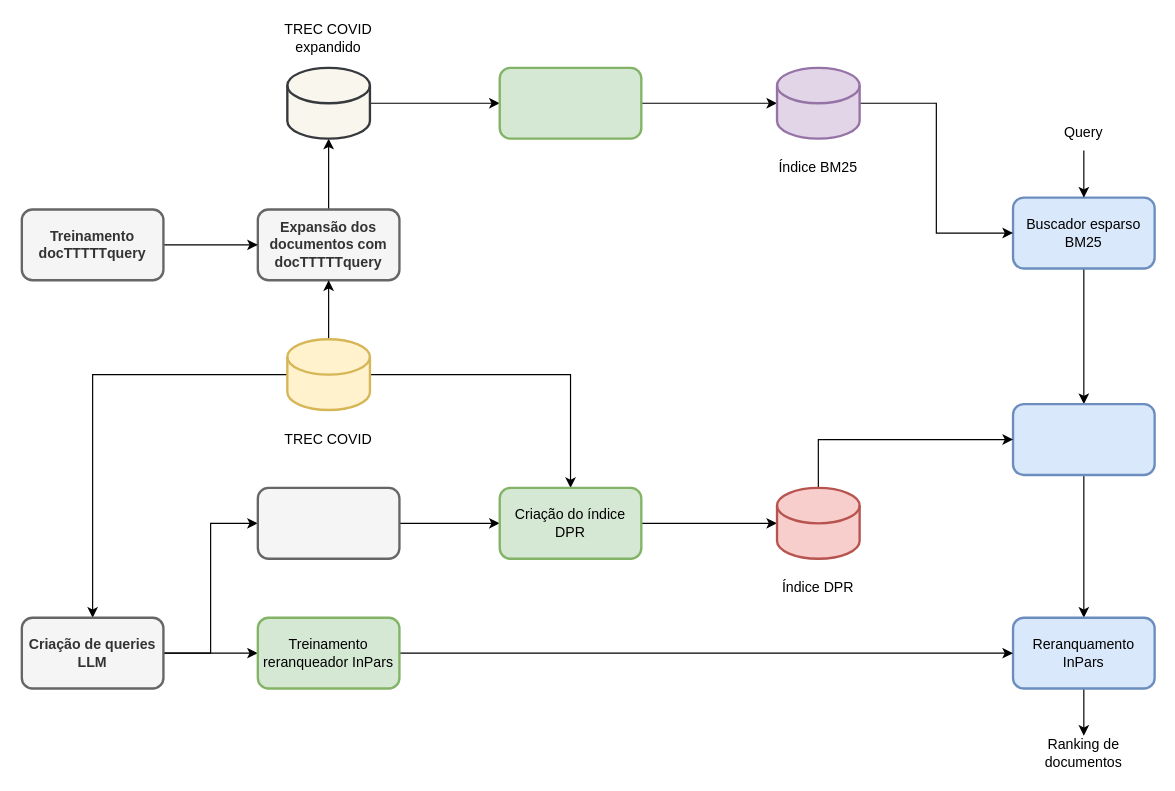
The diagram is 1175 pixels wide and 791 high, and some of its shapes have lost their labels. The shapes that lost their labels are listed below. From the top down, each one's centre as x and y in pixels, then its label:
point (570, 102): Criação do índice BM25
point (1083, 439): Buscador denso DPR
point (328, 522): Treinamento buscador denso DPR
